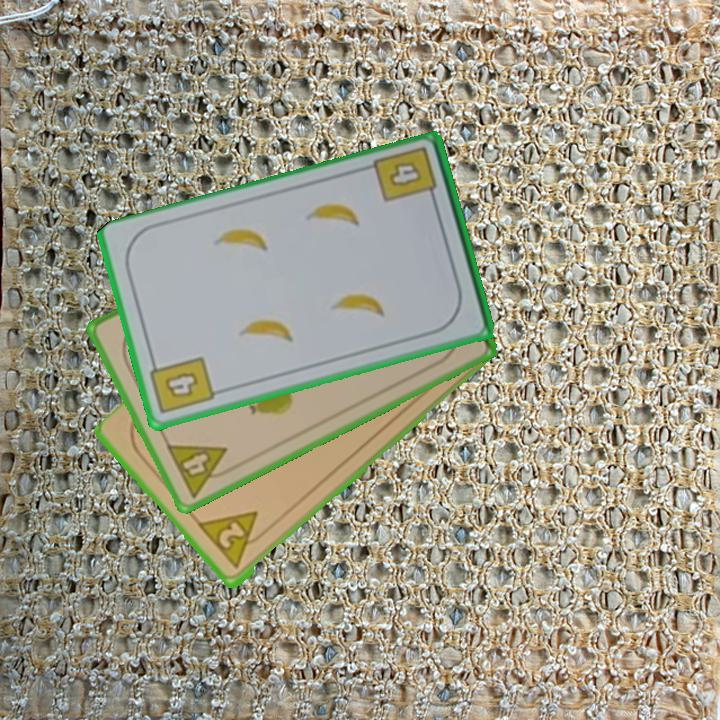2p: (195, 507, 272, 574)
4b: (370, 143, 440, 208), (147, 353, 217, 417)
4p: (162, 440, 239, 501)
